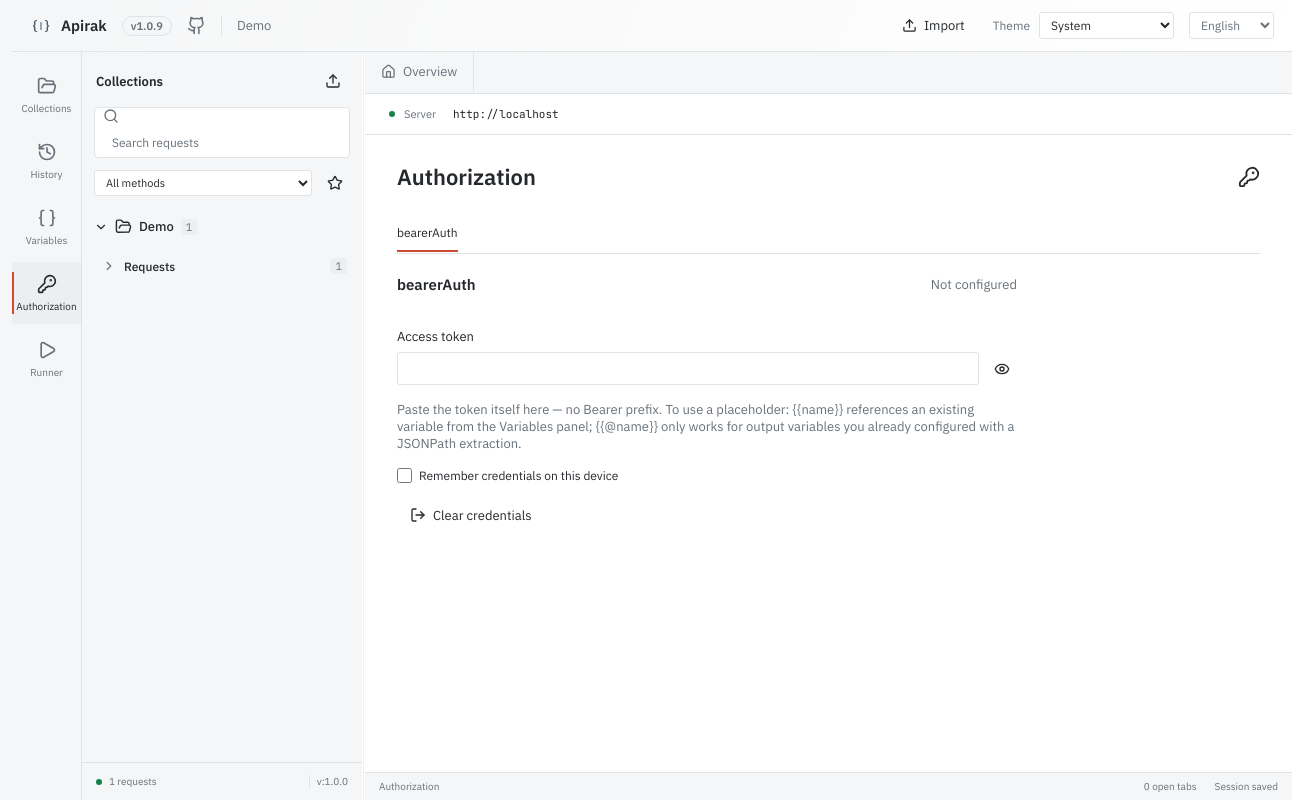
Test case: 访问令牌保存 › 填入令牌后该 scheme 显示为已配置
This screenshot has width=1292, height=800.
Type "my-token" into the password field labelled "Access token".
click(688, 369); type("my-token")  # box x1=397 y1=352 x2=979 y2=385
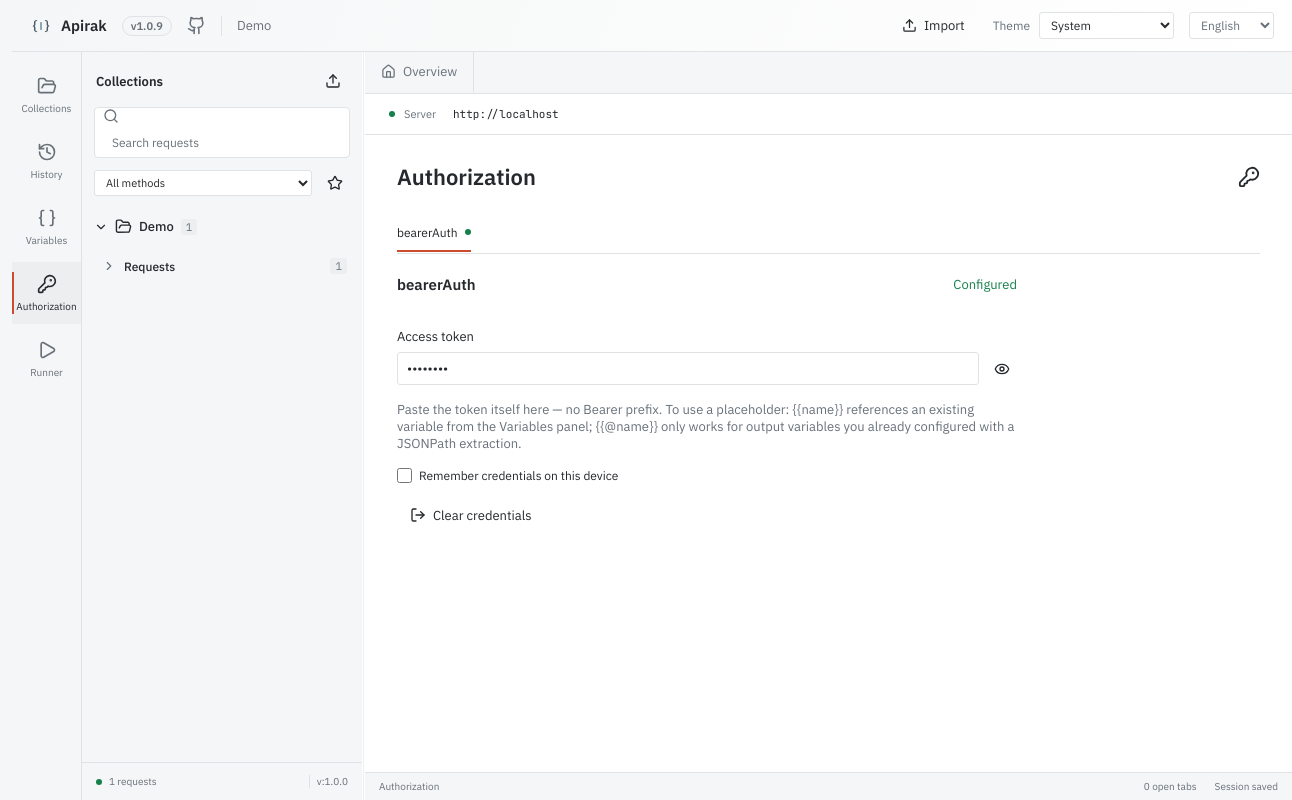
Expected: the 2nd element with class "status-dot" is shown, x1=464 y1=229 x2=470 y2=235
